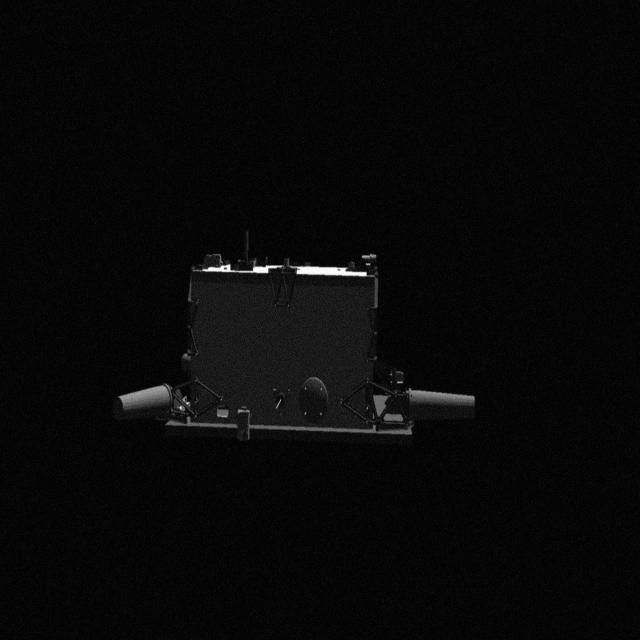medium_debris: (118, 250, 482, 448)
